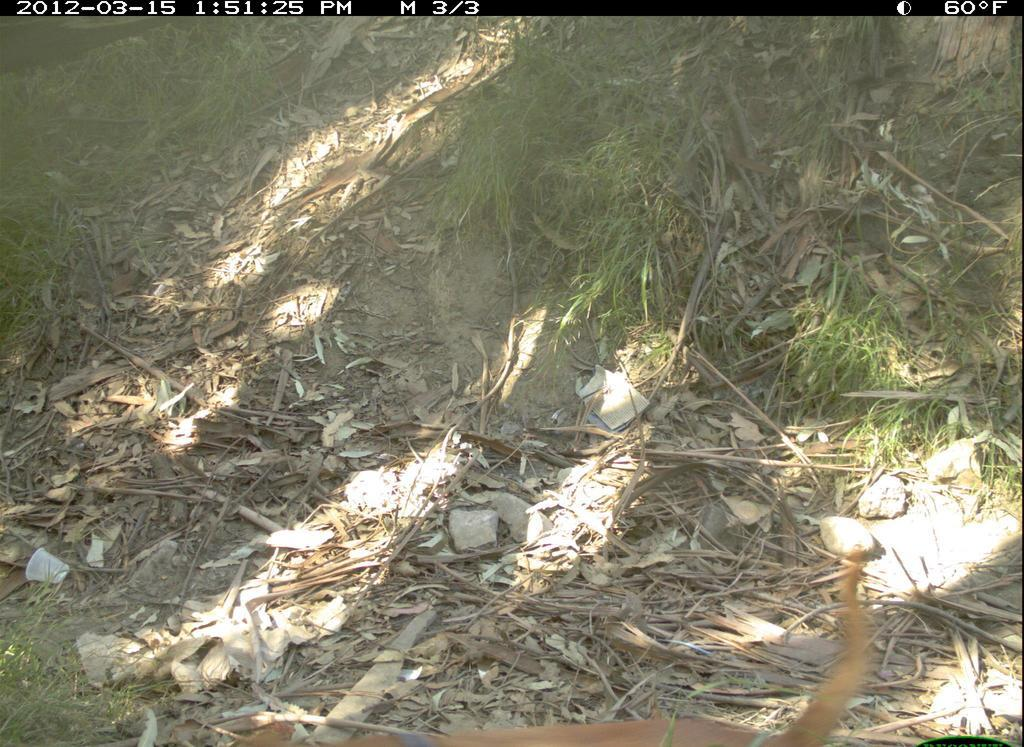dog: (241, 524, 881, 740)
